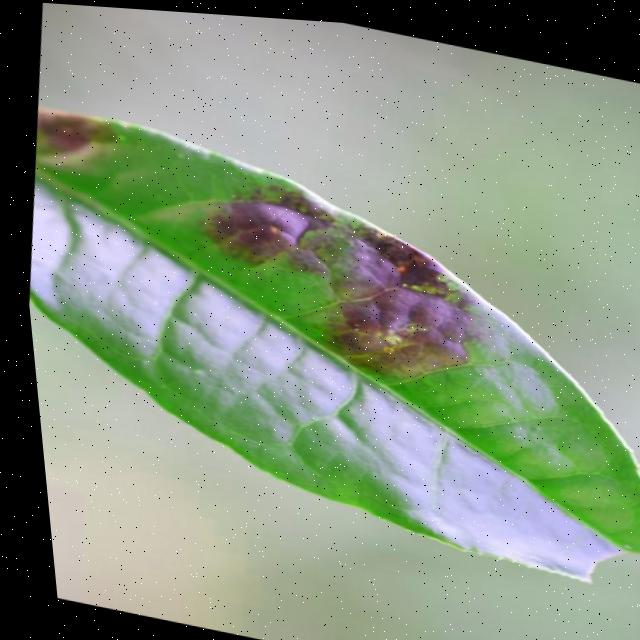Tea exobasidium blight: (219, 178, 479, 376)
